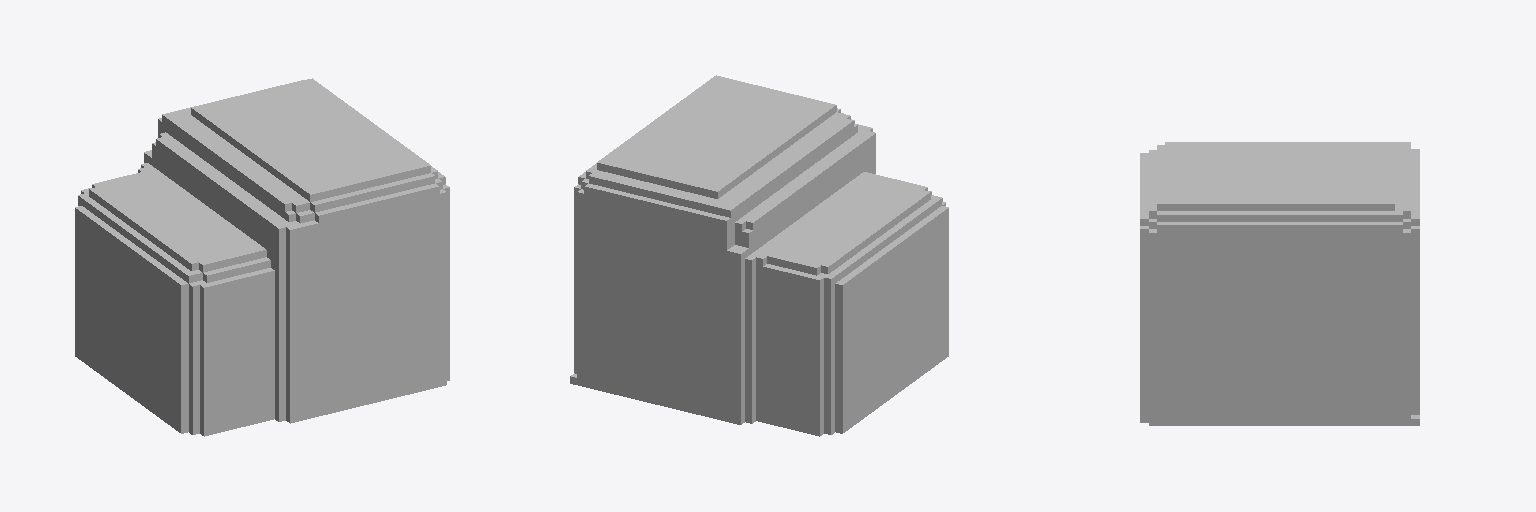
File: Rock1.obj
3 renders of one model, left to right at view 1: azimuth 30°, elevation 25°; view 2: azimuth 150°, elevation 25°; view 3: azimuth 270°, elevation 25°, orthographic.
Parts seen in each view (by area): view 1: object 1; view 2: object 1; view 3: object 1.
Part boxes in pixels (left/top/right/bottom): object 1: left=75, top=78, right=449, bottom=436; object 1: left=570, top=75, right=948, bottom=436; object 1: left=1140, top=142, right=1419, bottom=425.
Size of the model in its own units: 3.6 by 2.9 by 3.4.